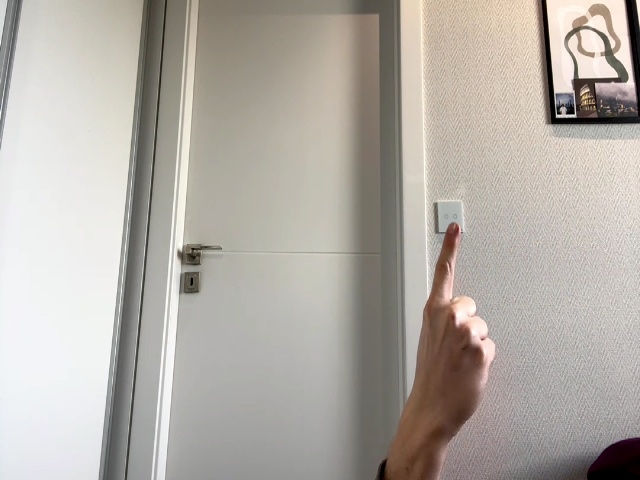D: (412, 223, 496, 438)
